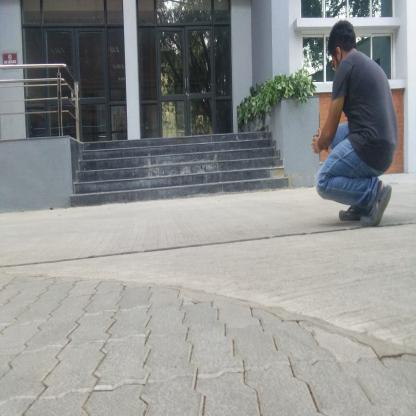stairs: (83, 135, 274, 201)
